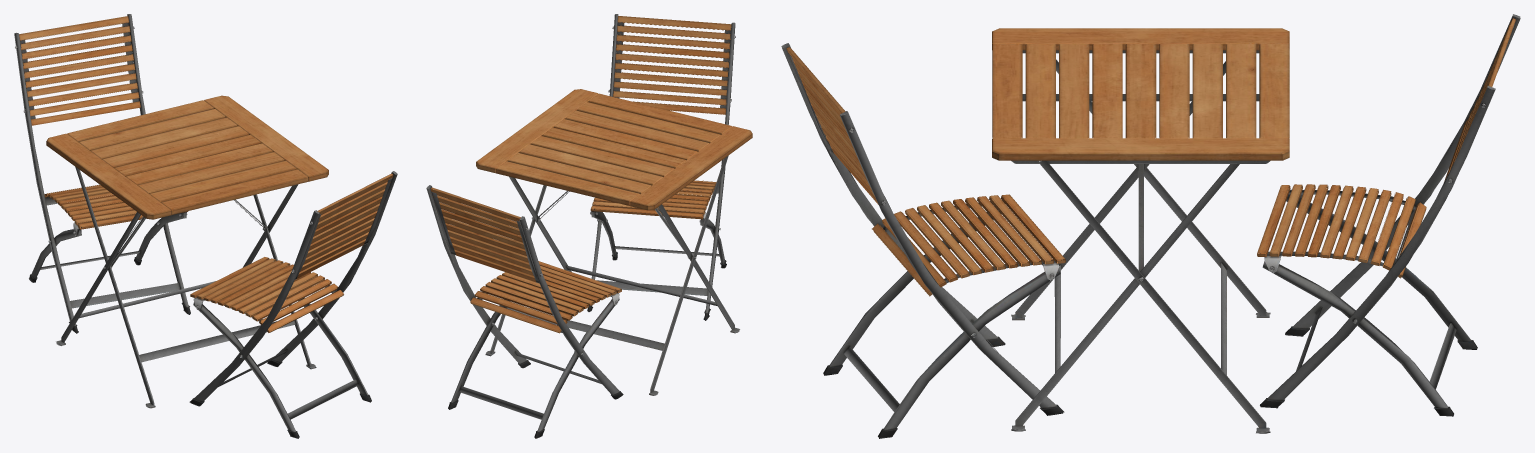
Rendered from blloku_cafe_furniture.glb.
3 views of the same model, side by side, from view 1: azimuth 30°, elevation 25°; view 2: azimuth 150°, elevation 25°; view 3: azimuth 270°, elevation 25° (orthographic). The views are drawn at different scales.
Parts seen in each view (by area): view 1: CafeFurniture; view 2: CafeFurniture; view 3: CafeFurniture.
Part boxes in pixels (x1,y1,x2,y2): CafeFurniture: (14, 14, 397, 438); CafeFurniture: (426, 14, 752, 438); CafeFurniture: (781, 14, 1520, 438).
Size of the model in its own units: 0.742 by 0.8586 by 1.72.
2 materials, 2 textured.
